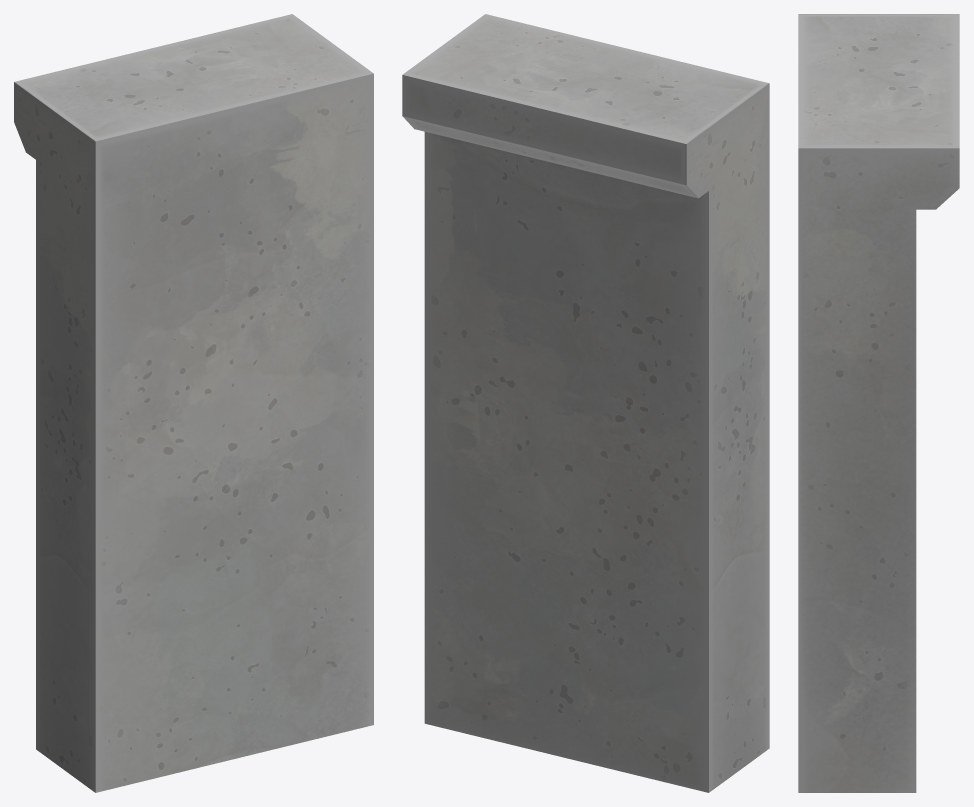
Rendered from Side.fbx.
The picture shows the model from 3 angles, left to right: view 1: azimuth 30°, elevation 25°; view 2: azimuth 150°, elevation 25°; view 3: azimuth 270°, elevation 25°; orthographic projection. The views are drawn at different scales.
Visible parts, largest first — view 1: Side; view 2: Side; view 3: Side.
Part boxes in pixels (x1=…): Side: x1=14, y1=14, x2=373, y2=792; Side: x1=402, y1=14, x2=769, y2=792; Side: x1=798, y1=14, x2=959, y2=792.
Size of the model in its own units: 200 by 447 by 101.
Materials: 1 (1 with a texture image).
